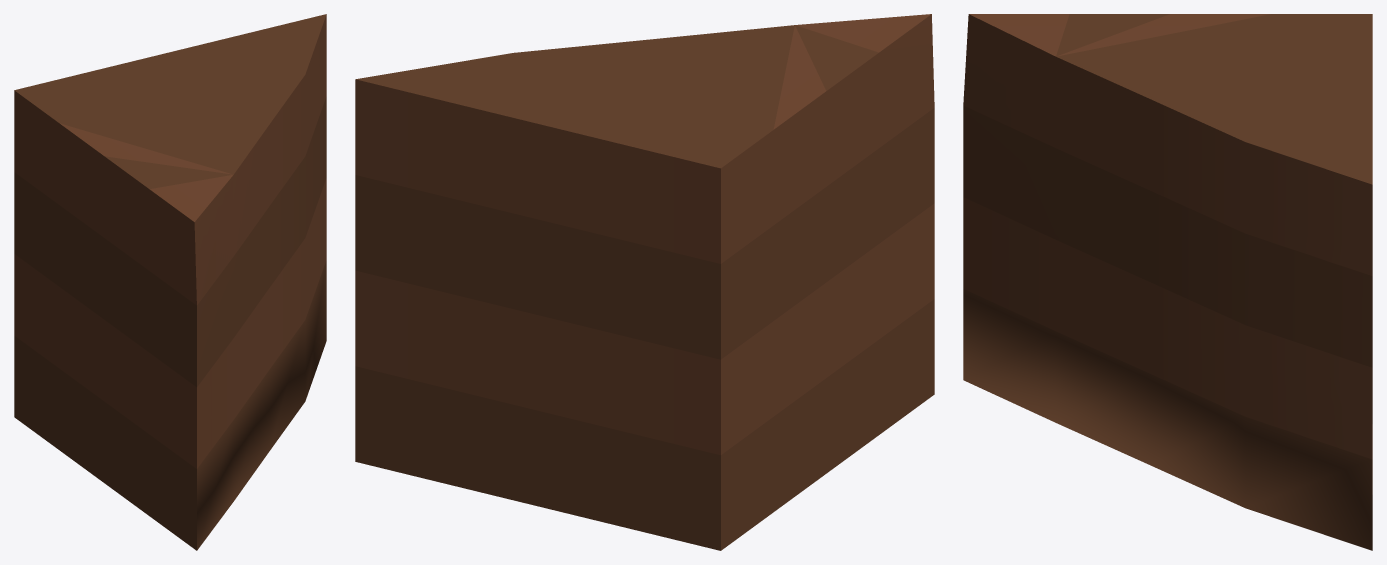
The model's file is SideCornerHard.fbx.
3 views of the same model, side by side, from view 1: azimuth 30°, elevation 25°; view 2: azimuth 150°, elevation 25°; view 3: azimuth 270°, elevation 25° (orthographic). The views are drawn at different scales.
Parts seen in each view (by area): view 1: pCube1; view 2: pCube1; view 3: pCube1.
Boxes of the visible parts, x1,y1,x2,y2 form: pCube1: [14, 14, 326, 550]; pCube1: [355, 14, 934, 550]; pCube1: [963, 14, 1372, 550].
Bounding box in the file's own units: 1 × 1 × 1.01.
